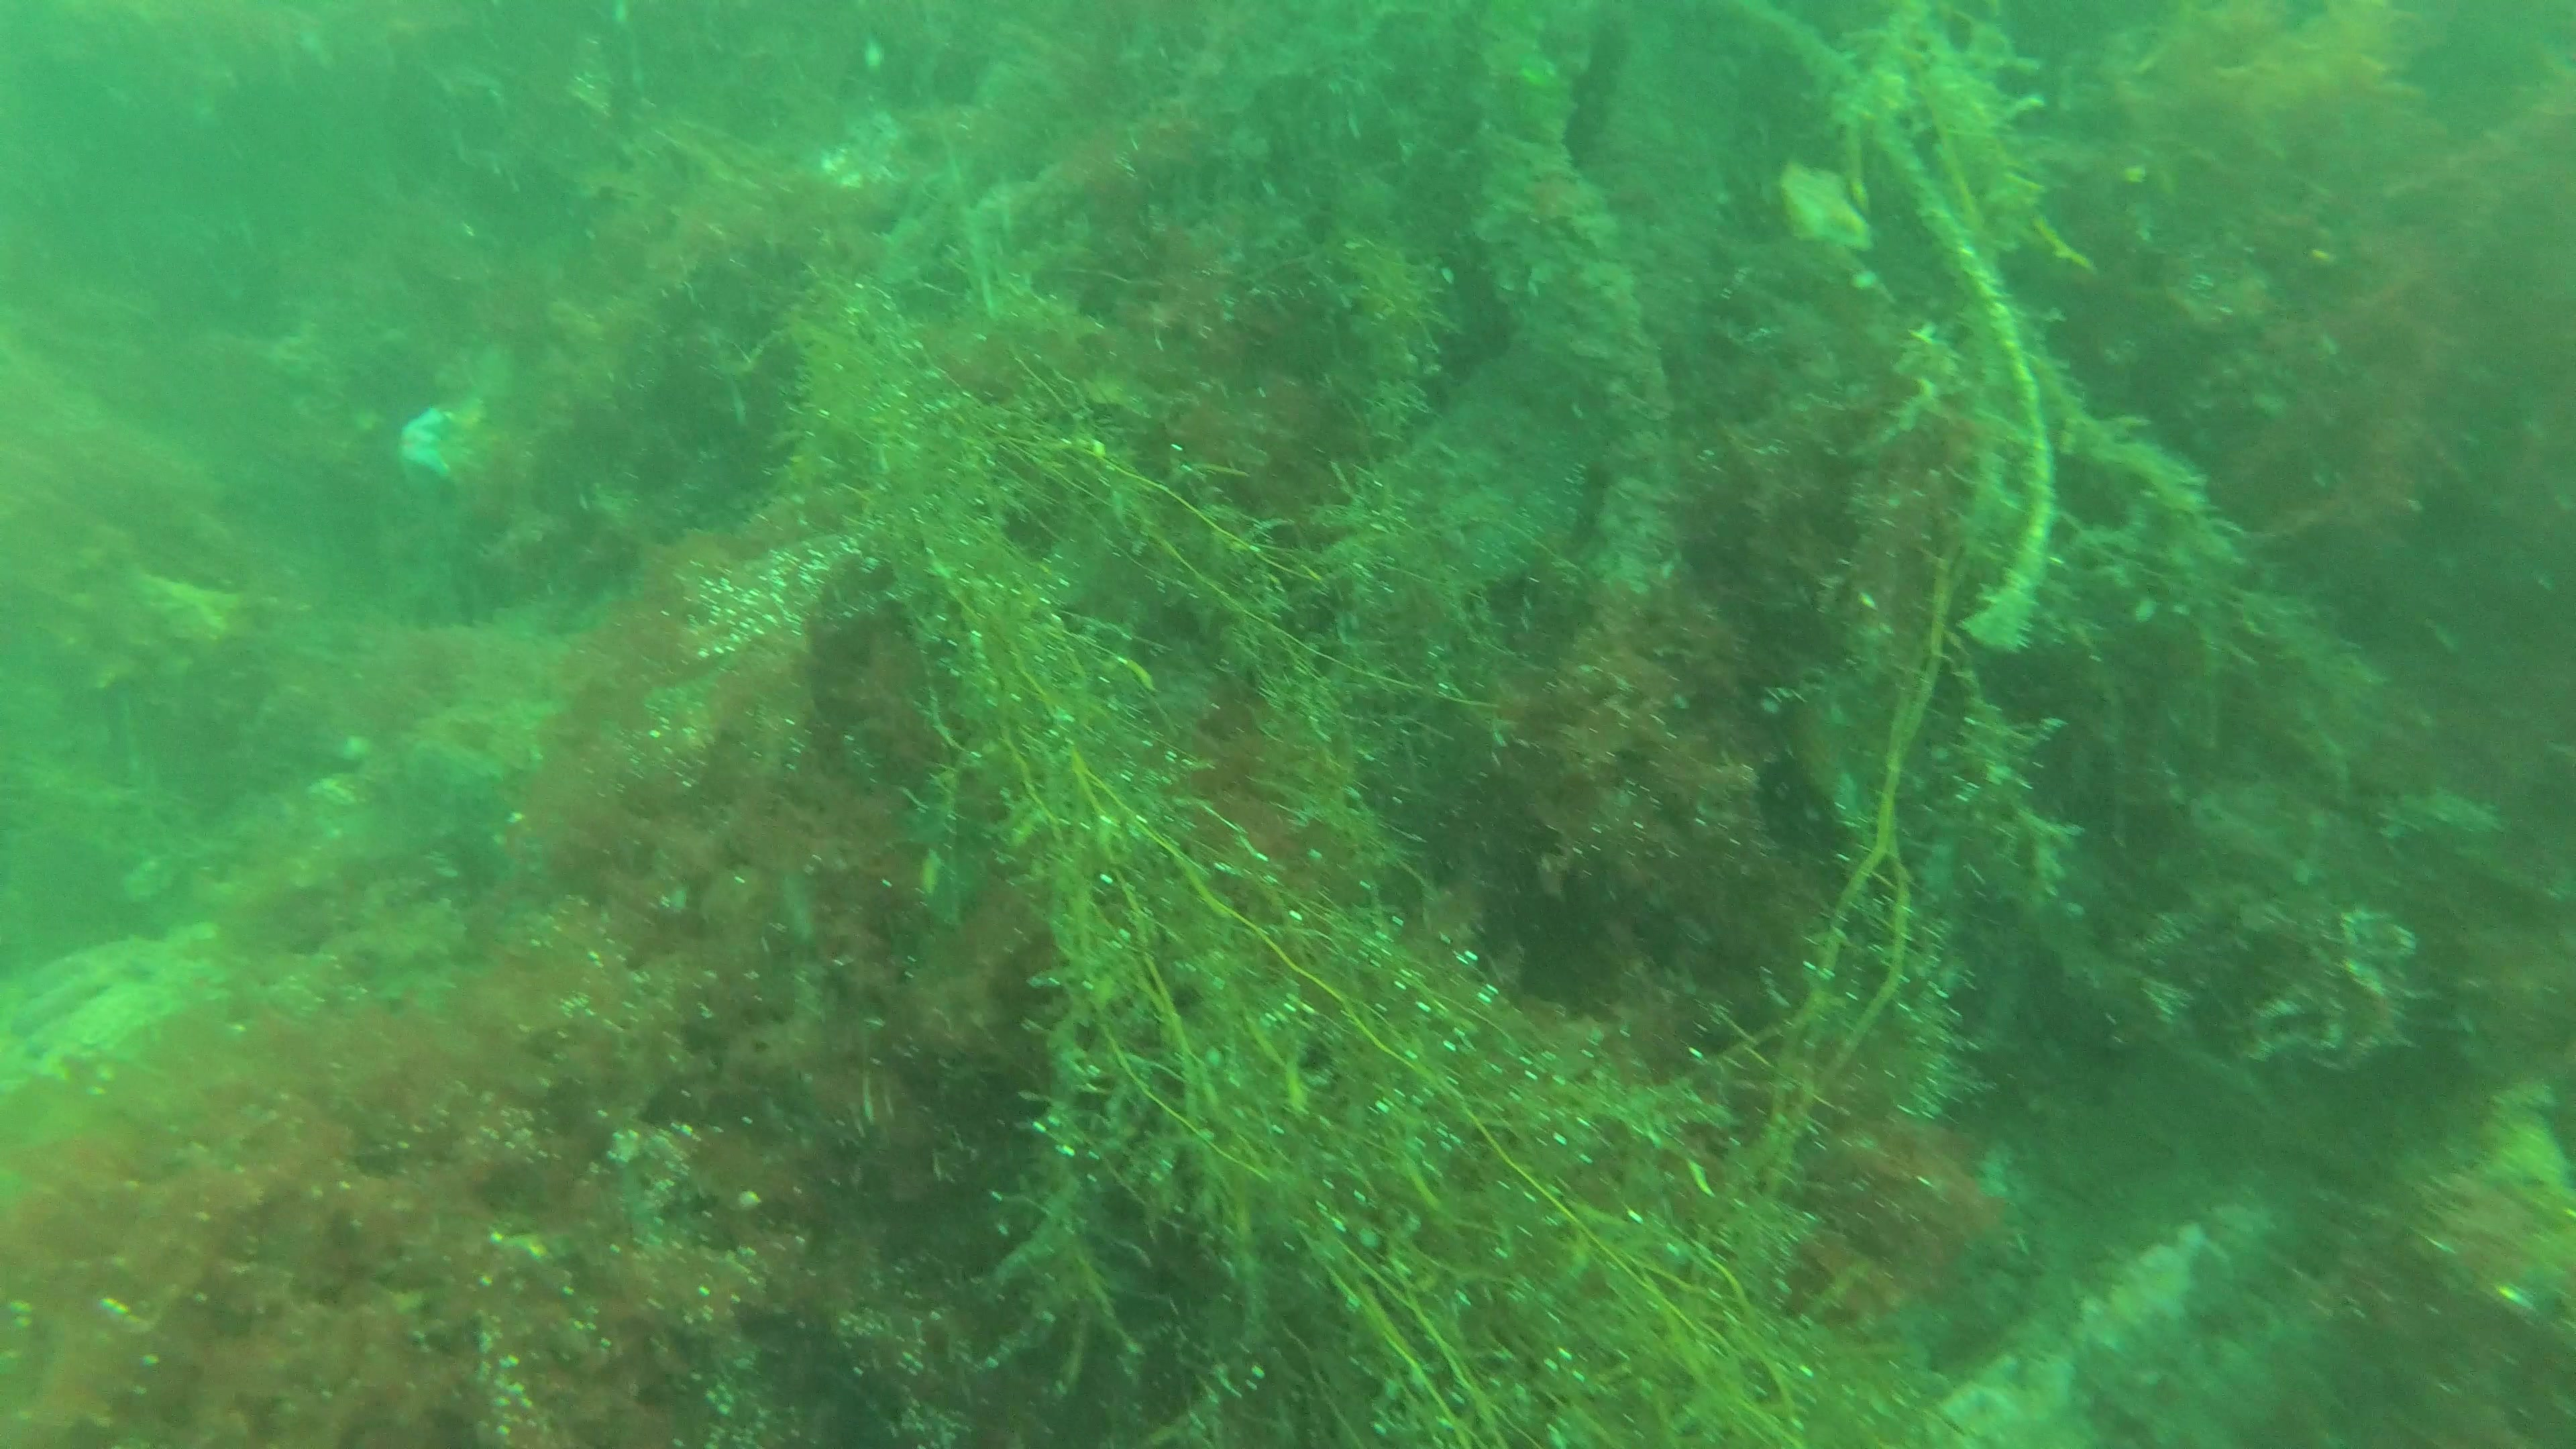starfish: (1776, 143, 1884, 258), (403, 395, 495, 506)
